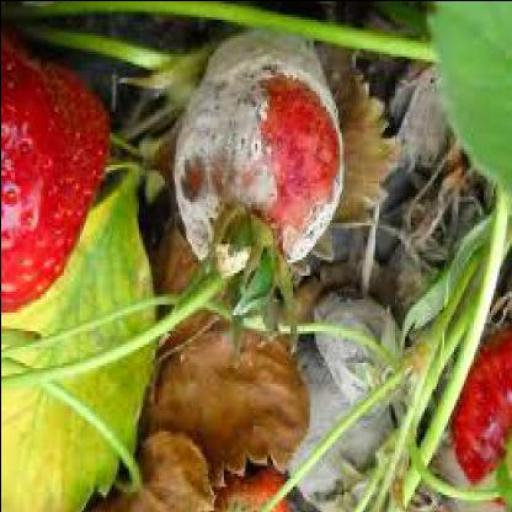biodegradable: (0, 161, 161, 511), (166, 36, 336, 354), (134, 216, 312, 488), (1, 34, 107, 320), (424, 3, 510, 203), (286, 354, 396, 509), (309, 40, 396, 230), (310, 288, 396, 406), (451, 332, 510, 498), (88, 436, 216, 510), (206, 464, 286, 512)
